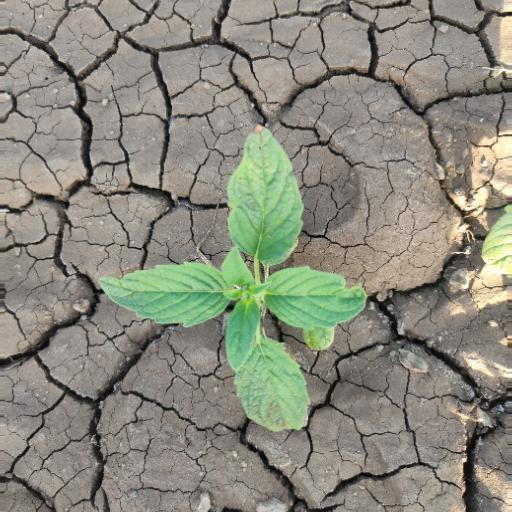crop: (93, 96, 380, 438)
